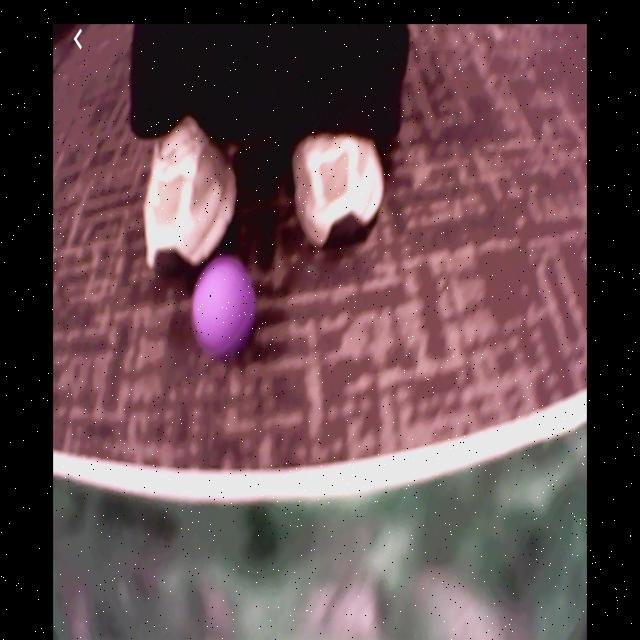ball: (193, 258, 260, 356)
